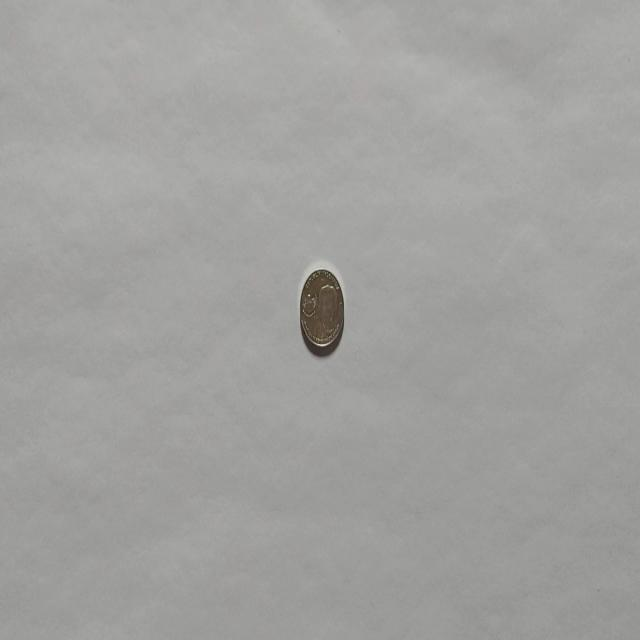seratus rupiah: (298, 266, 344, 352)
